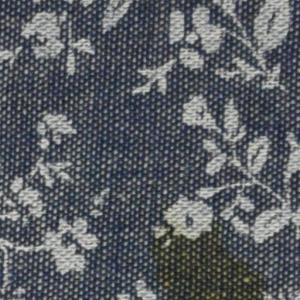Oil Stain: (146, 211, 276, 300)
